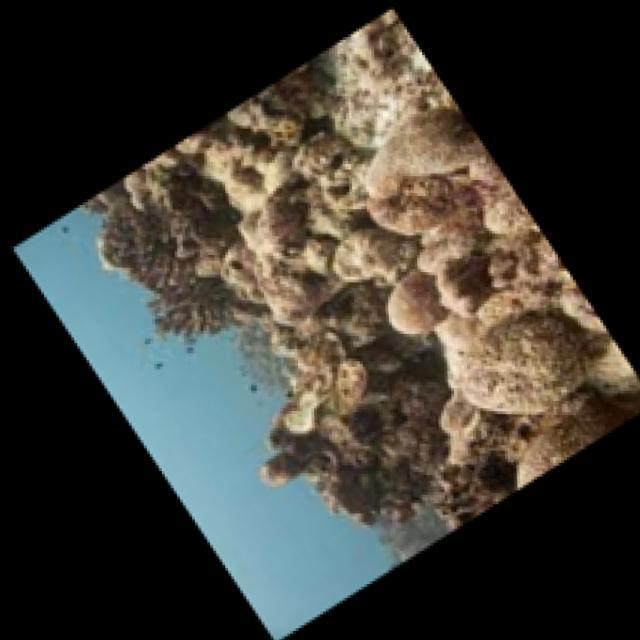Dead Coral: (308, 94, 498, 354), (395, 298, 592, 476), (240, 332, 407, 534), (87, 193, 265, 370)
